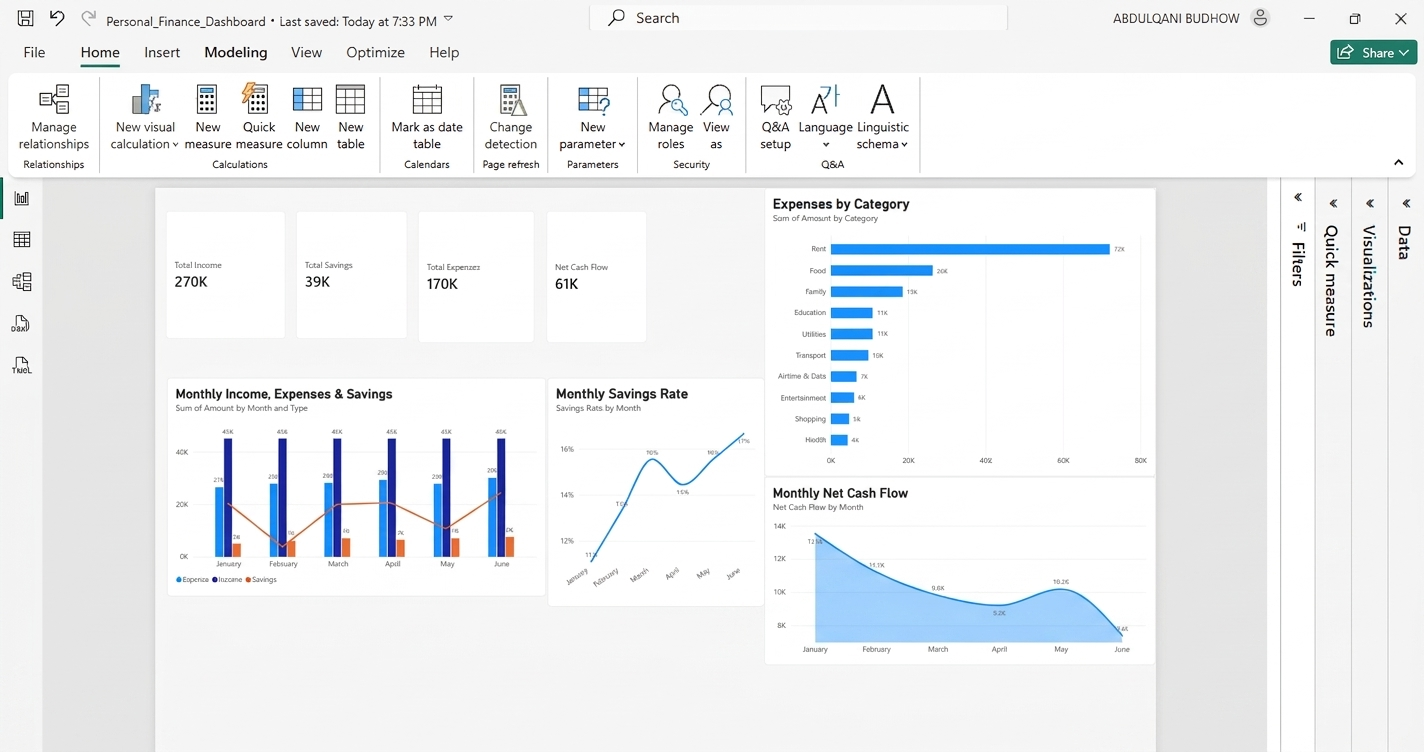

Layout of this report page (visuals, bound fields, positions):
{"tool":"powerbi","page":{"name":"Page 1","canvas":[1920,1080],"ordinal":0},"visuals":[{"type":"cardVisual","fields":{"Data":["Transactions.Total Income"]},"box":[19.9,43,230,246],"z":0},{"type":"cardVisual","fields":{"Data":["Transactions.Total Expenses"]},"box":[504.8,43,223.4,253.2],"z":1000},{"type":"cardVisual","fields":{"Data":["Transactions.Total Savings"]},"box":[269.8,43,213.5,246.6],"z":2000},{"type":"cardVisual","fields":{"Data":["Transactions.Net Cash Flow"]},"box":[749.8,43,193.7,253.2],"z":3000},{"type":"clusteredColumnChart","title":"Monthly Income, Expenses & Savings","fields":{"Category":["Transactions.Date.Variation.Date Hierarchy.Month"],"Series":["Transactions.Type"],"Y":["Sum(Transactions.Amount)"]},"box":[21.5,364.1,728.3,418.8],"z":4000},{"type":"lineChart","title":"Monthly Net Cash Flow","fields":{"Category":["Transactions.Date.Variation.Date Hierarchy.Month"],"Y":["Transactions.Net Cash Flow"]},"box":[1168.6,554.5,751.4,362.5],"z":5000},{"type":"clusteredBarChart","title":"Expenses by Category","fields":{"Category":["Transactions.Category"],"Y":["Sum(Transactions.Amount)"]},"box":[1168.6,0,751.4,554.5],"z":6000},{"type":"lineChart","title":"Monthly Savings Rate","fields":{"Category":["Transactions.Date.Variation.Date Hierarchy.Month"],"Y":["Transactions.Savings Rate"]},"box":[751.4,364.1,417.1,438.6],"z":7000}]}

Visuals, with their boxes on the page's 1920x1080 design canvas (x1, y1, x2, y2). These are canvas units, not pixel positions in the 1424x752 screenshot, which may show the page scaled, cropped or inside an application window:
cardVisual - Transactions.Total Income: <region>20, 43, 250, 289</region>
cardVisual - Transactions.Total Expenses: <region>505, 43, 728, 296</region>
cardVisual - Transactions.Total Savings: <region>270, 43, 483, 290</region>
cardVisual - Transactions.Net Cash Flow: <region>750, 43, 944, 296</region>
"Monthly Income, Expenses & Savings" clusteredColumnChart: <region>22, 364, 750, 783</region>
"Monthly Net Cash Flow" lineChart: <region>1169, 554, 1920, 917</region>
"Expenses by Category" clusteredBarChart: <region>1169, 0, 1920, 554</region>
"Monthly Savings Rate" lineChart: <region>751, 364, 1168, 803</region>
